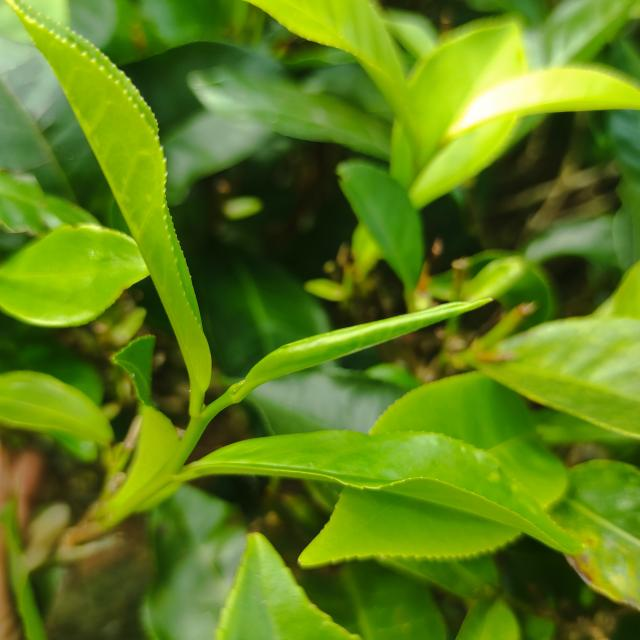unopened_leaf: (230, 286, 507, 408)
